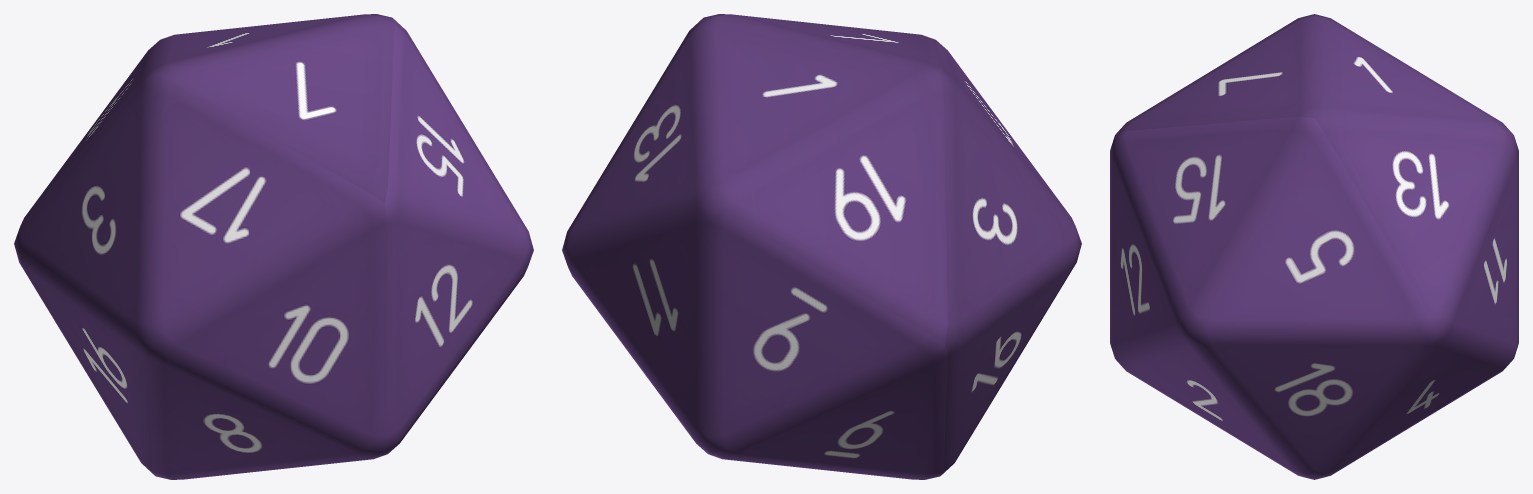
3 renders of one model, left to right at view 1: azimuth 30°, elevation 25°; view 2: azimuth 150°, elevation 25°; view 3: azimuth 270°, elevation 25°, orthographic. The views are drawn at different scales.
Parts seen in each view (by area): view 1: pSolid1; view 2: pSolid1; view 3: pSolid1.
Part boxes in pixels (bbox=[...]): pSolid1: bbox=[14, 14, 533, 479]; pSolid1: bbox=[562, 14, 1081, 479]; pSolid1: bbox=[1110, 14, 1518, 479].
Size of the model in its own units: 179 by 179 by 179.
Materials: 1 (1 with a texture image).
